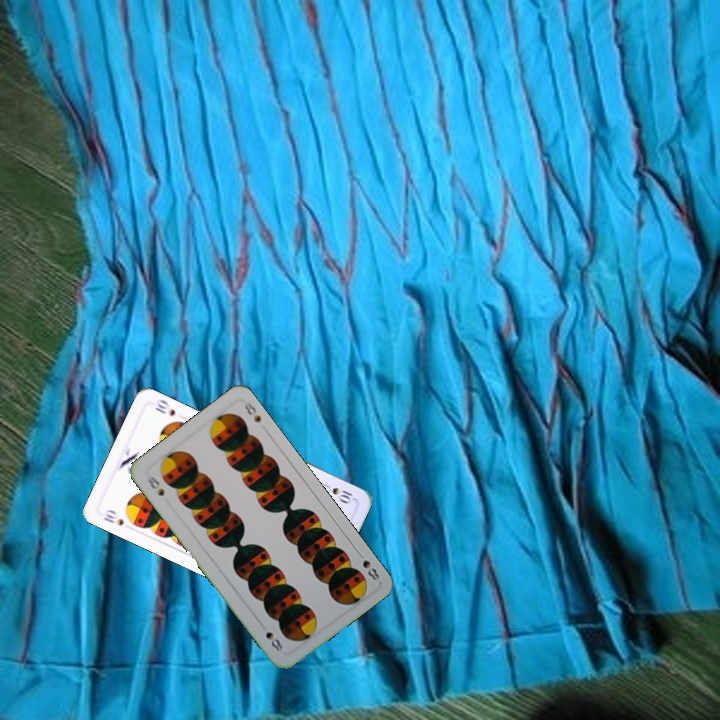S10: (319, 479, 355, 506), (99, 505, 127, 528)
S8: (353, 547, 382, 583), (142, 472, 167, 499)
